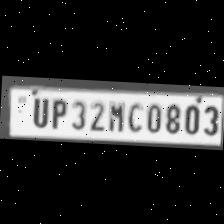0: (142, 97, 162, 130), (180, 100, 200, 132)
2: (86, 95, 106, 129)
3: (66, 94, 88, 128), (199, 100, 221, 134)
8: (162, 100, 182, 132)
C: (124, 97, 144, 130)
M: (104, 97, 124, 130)
P: (46, 94, 68, 128)
U: (27, 92, 50, 125)
